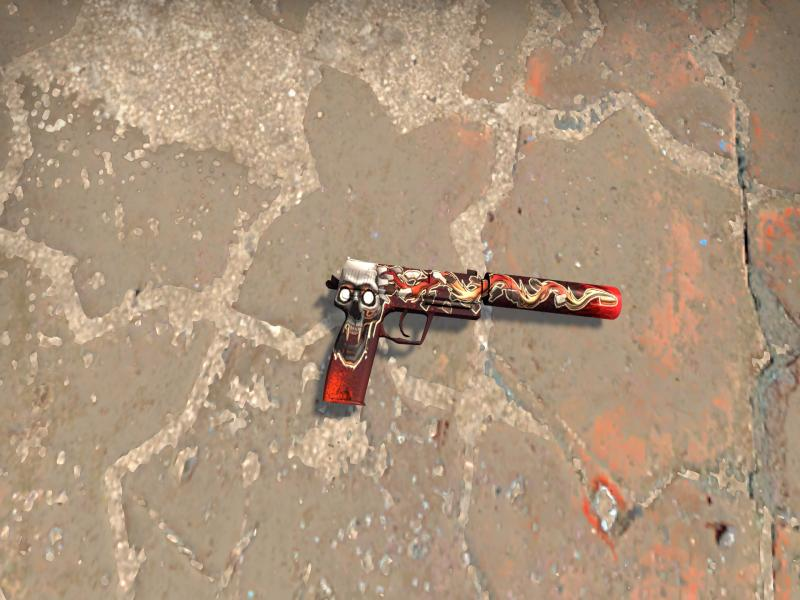USP: (324, 259, 622, 404)
